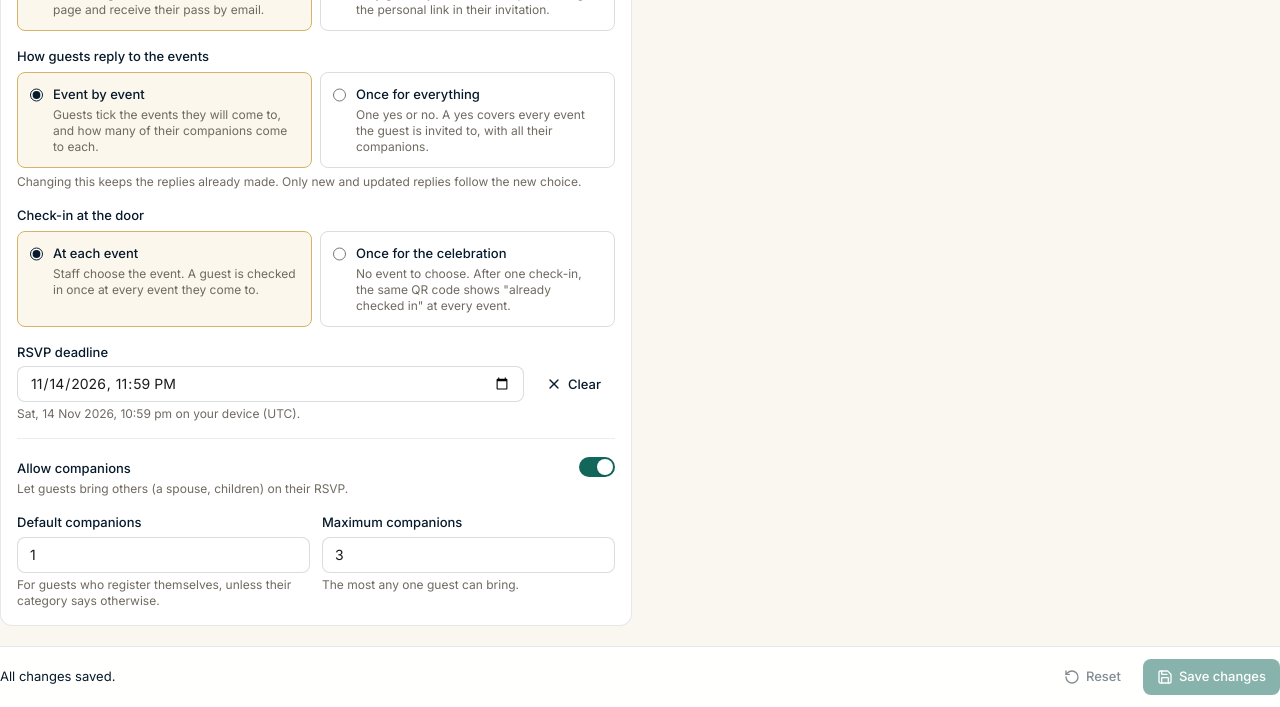
CelebrationForm › blocks a default companion count above the maximum
(page scrolled)
Step 1. Replace the text in the field labelled "Default companions" with "5" → {"x": 164, "y": 555}, box top-left (17, 537), bottom-right (310, 573)
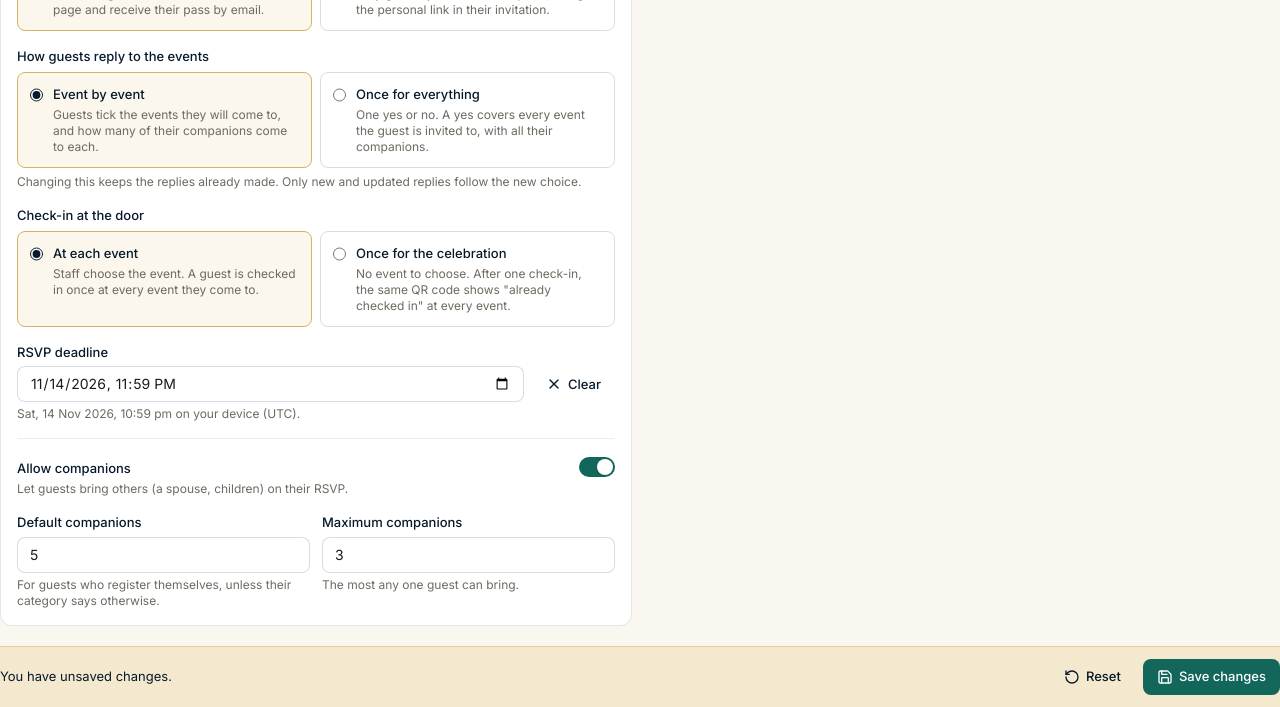
Step 2. Click the button "Save changes" → {"x": 1211, "y": 677}, box top-left (1143, 659), bottom-right (1279, 695)
(page scrolled)
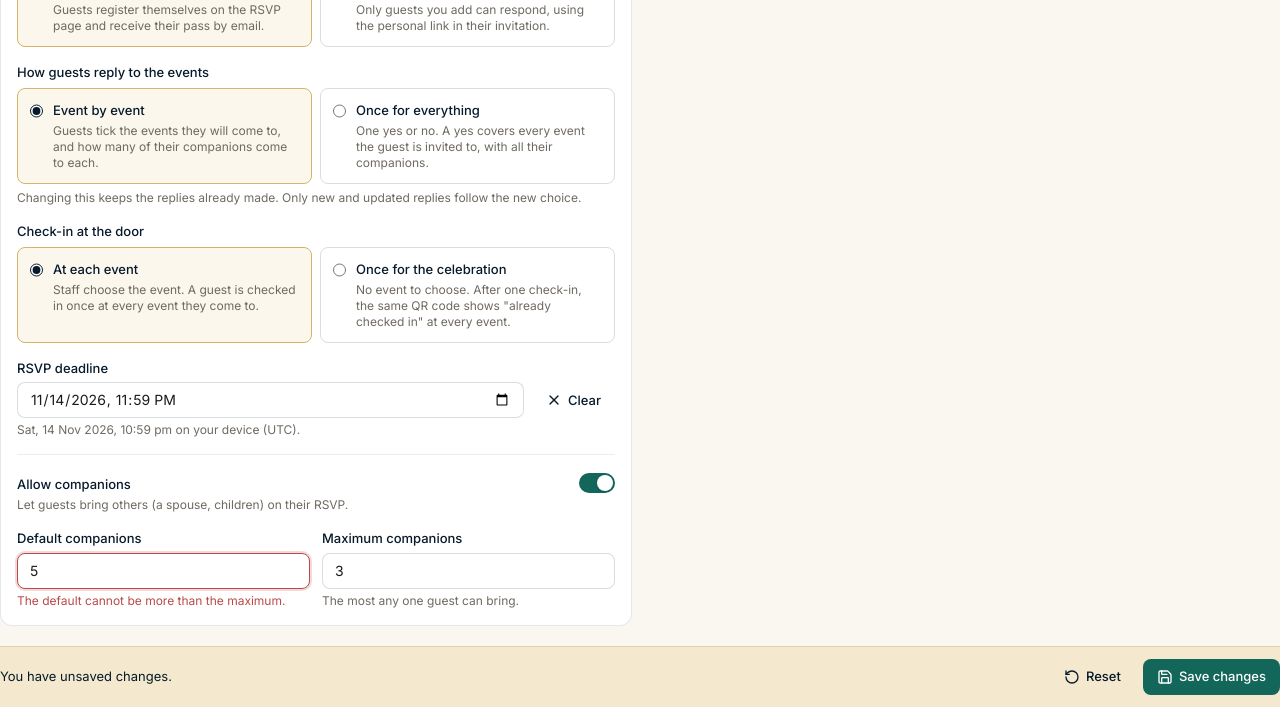
expect the text "The default cannot be more than the maximum." is shown: met, box top-left (17, 593), bottom-right (310, 609)
